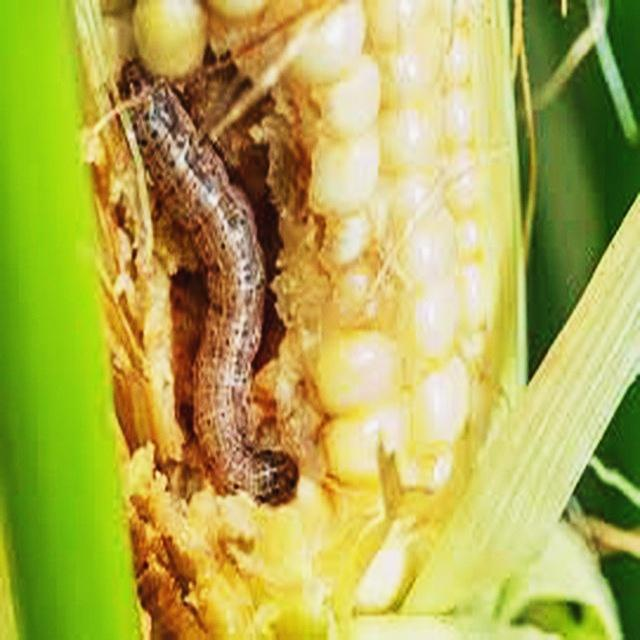worm: (95, 60, 301, 507)
